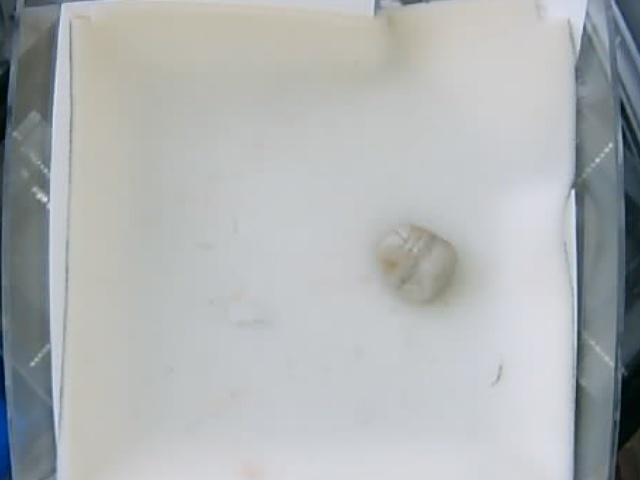Pebble: (376, 222, 459, 302)
